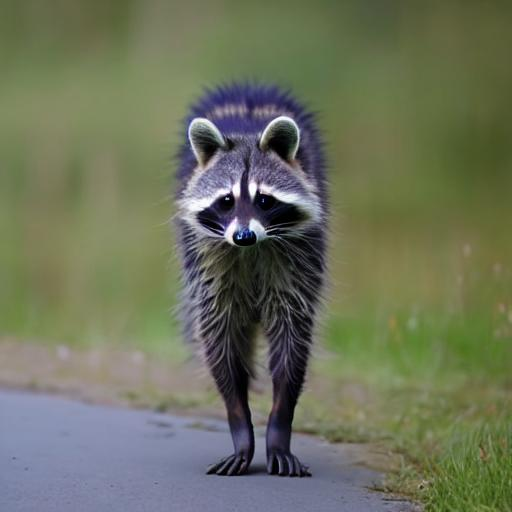raccoon: (167, 84, 343, 420)
